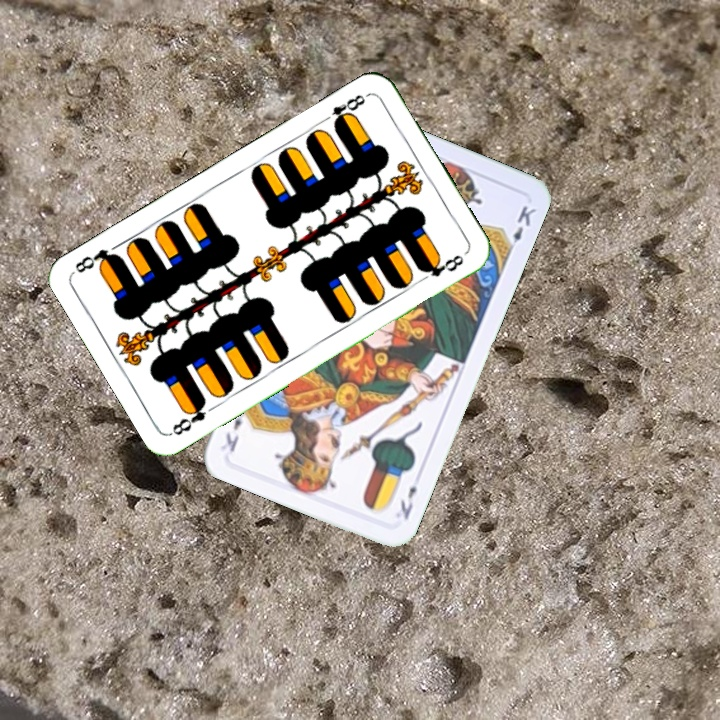E8: (318, 90, 368, 130), (167, 395, 209, 438)
EK: (396, 482, 420, 523)
